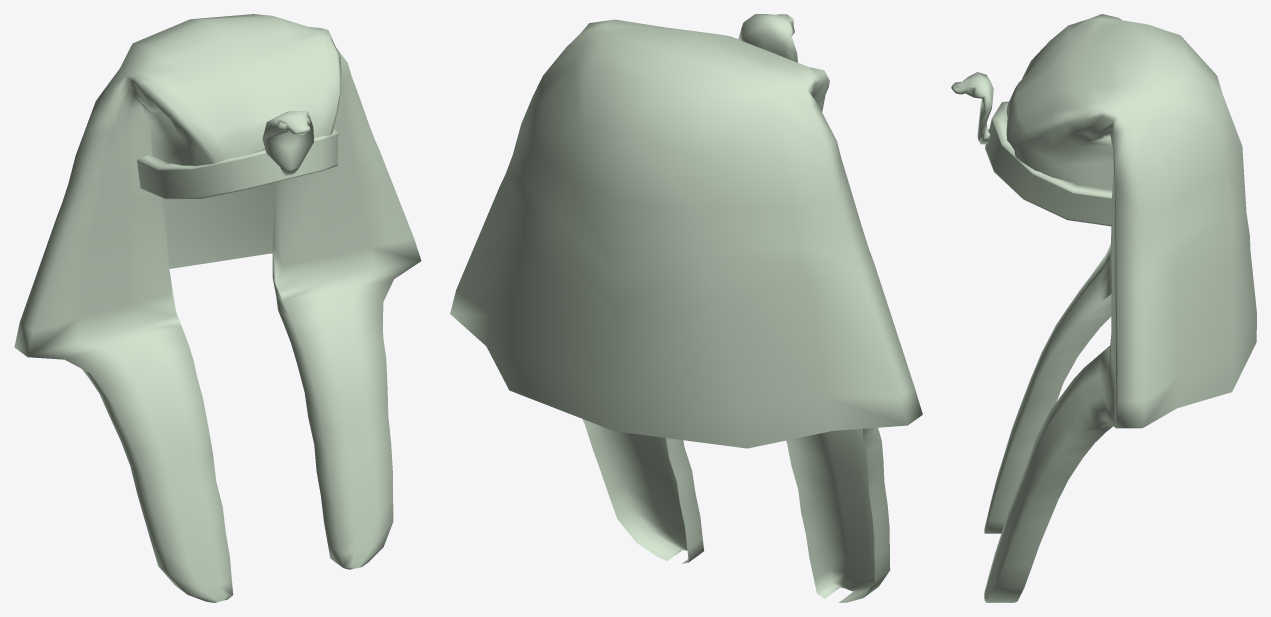
File: egyptian_crown_pharao.dae
The picture shows the model from 3 angles, left to right: view 1: azimuth 30°, elevation 25°; view 2: azimuth 150°, elevation 25°; view 3: azimuth 270°, elevation 25°; orthographic projection. The views are drawn at different scales.
Visible parts, largest first — view 1: crown_pharao; view 2: crown_pharao; view 3: crown_pharao.
Boxes of the visible parts, left/top/right/bottom form: crown_pharao: left=14, top=14, right=421, bottom=602; crown_pharao: left=450, top=14, right=922, bottom=602; crown_pharao: left=951, top=14, right=1256, bottom=602.
Size of the model in its own units: 1.09 by 0.7131 by 1.33.
